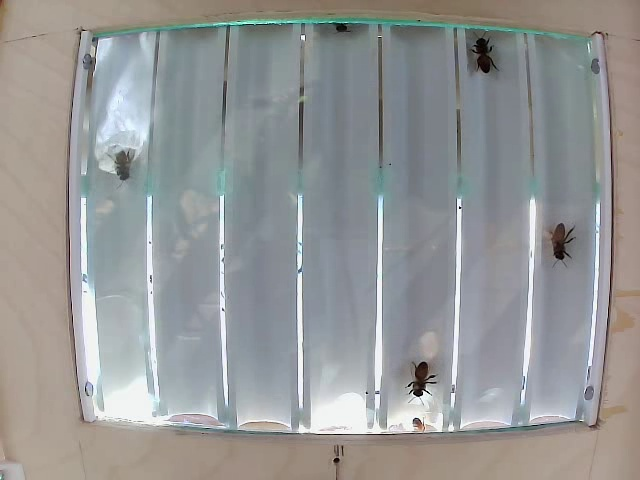bee: (547, 215, 581, 273), (402, 358, 433, 404), (469, 33, 500, 77), (102, 138, 128, 183)
